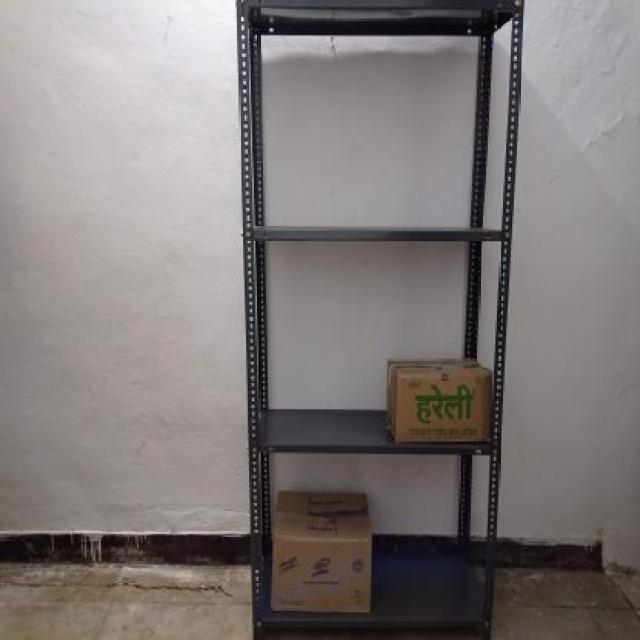box: (269, 538, 377, 610), (394, 372, 492, 443)
